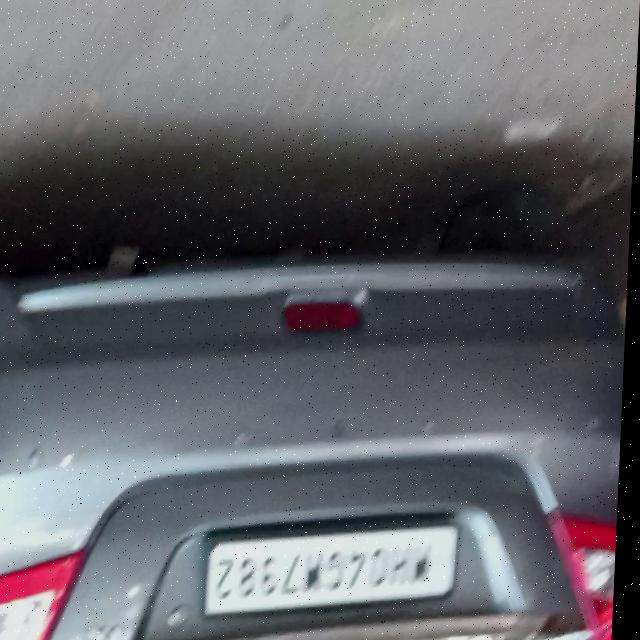plate: (205, 514, 470, 619)
